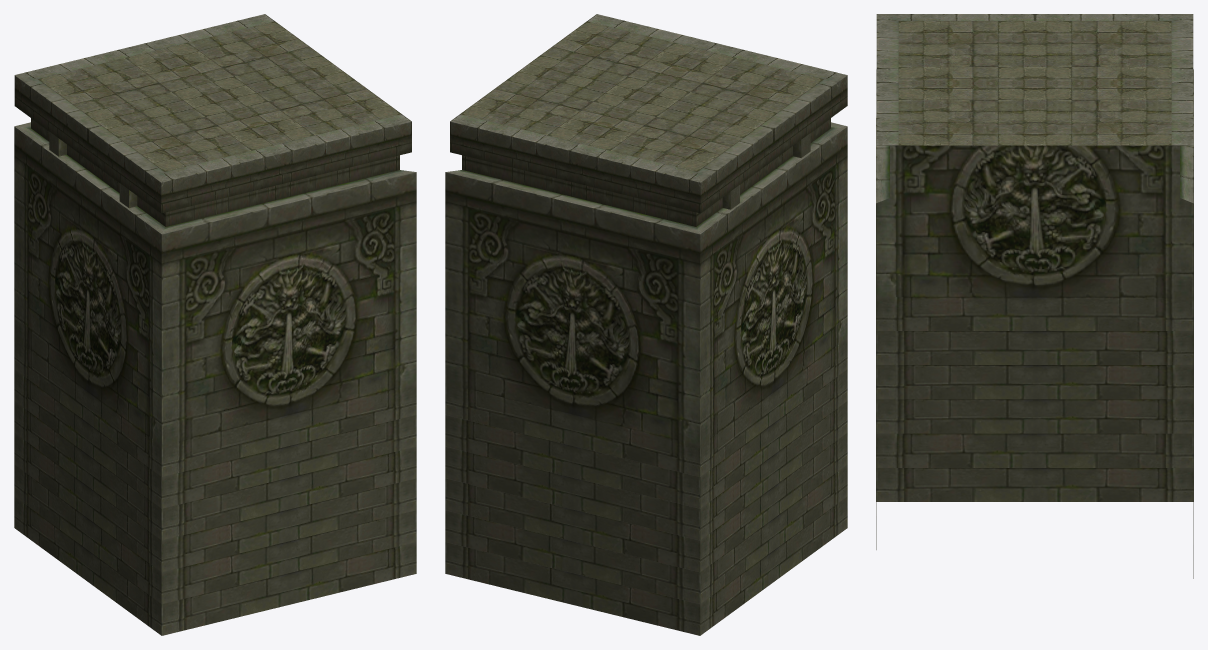
The model's file is THL1_2.fbx.
3 views of the same model, side by side, from view 1: azimuth 30°, elevation 25°; view 2: azimuth 150°, elevation 25°; view 3: azimuth 270°, elevation 25° (orthographic). The views are drawn at different scales.
Parts seen in each view (by area): view 1: _Combined_Mesh_root_scene__Mesh_polySurface3143; view 2: _Combined_Mesh_root_scene__Mesh_polySurface3143; view 3: _Combined_Mesh_root_scene__Mesh_polySurface3143.
Part boxes in pixels (left/top/right/bottom): _Combined_Mesh_root_scene__Mesh_polySurface3143: left=14, top=14, right=416, bottom=635; _Combined_Mesh_root_scene__Mesh_polySurface3143: left=445, top=14, right=847, bottom=635; _Combined_Mesh_root_scene__Mesh_polySurface3143: left=876, top=14, right=1193, bottom=578.
Size of the model in its own units: 8.24 by 14 by 8.26.
